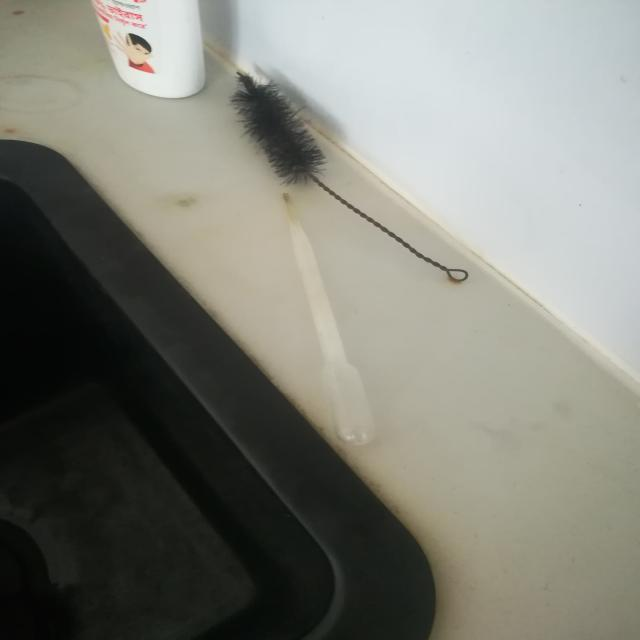Pipette: (250, 165, 433, 472)
